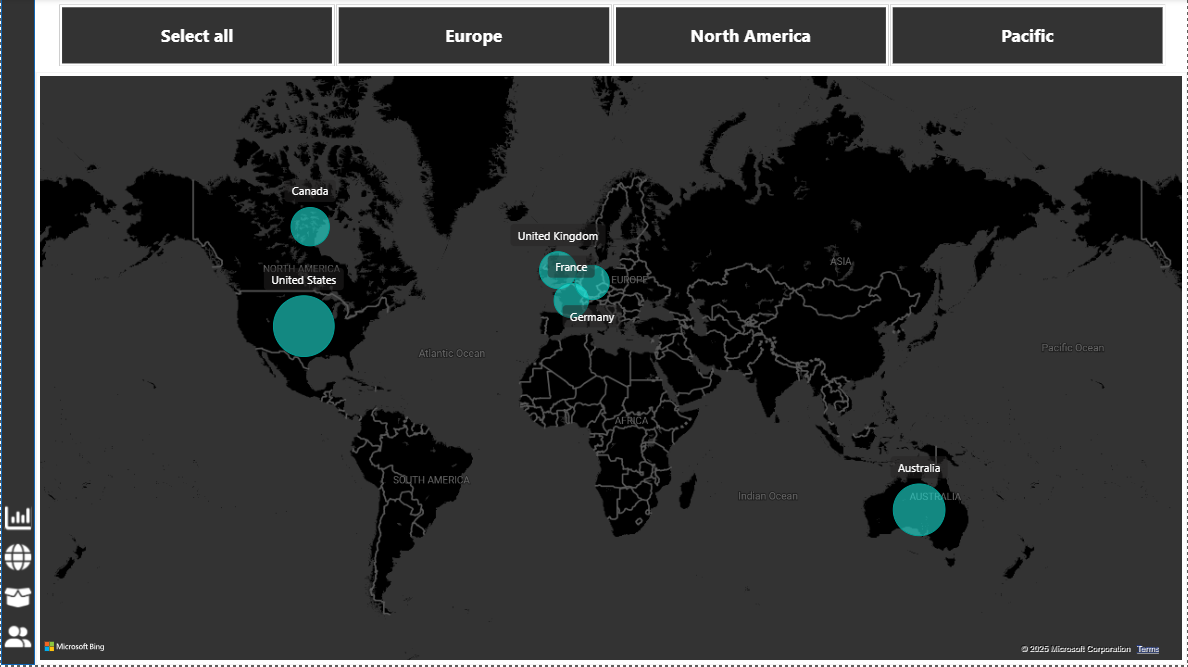

What the dashboard file says about the page in this screenshot:
{"tool":"powerbi","page":{"name":"Map","canvas":[1280,720],"ordinal":1},"visuals":[{"type":"shape","box":[0,0,36.7,720],"z":0},{"type":"map","fields":{"Category":["Territory Lookup.Country"],"Size":["Measure Table.Total Orders"]},"box":[37.1,80,1242.9,640],"z":1000},{"type":"actionButton","box":[0,531.7,36.7,60],"z":2000,"group":"g1"},{"type":"slicer","fields":{"Values":["Territory Lookup.Continent"]},"box":[36.7,0,1243.3,80],"z":2000},{"type":"actionButton","box":[0,617.3,36.7,60],"z":3000,"group":"g1"},{"type":"group","id":"g1","title":"Navigation Buttons","box":[0,531.7,36.7,188.3],"z":3000},{"type":"actionButton","box":[0,660,36.7,60],"z":4000,"group":"g1"},{"type":"actionButton","box":[0,574.5,36.7,60],"z":5000,"group":"g1"}]}

Visuals, with their boxes in screenshot pixels (x1, y1, x2, y2):
shape: (0, 0, 34, 659)
map - Territory Lookup.Country x Measure Table.Total Orders: (34, 73, 1172, 659)
actionButton: (0, 487, 34, 542)
slicer - Territory Lookup.Continent: (34, 0, 1172, 73)
actionButton: (0, 565, 34, 620)
"Navigation Buttons" group: (0, 487, 34, 659)
actionButton: (0, 604, 34, 659)
actionButton: (0, 526, 34, 581)
